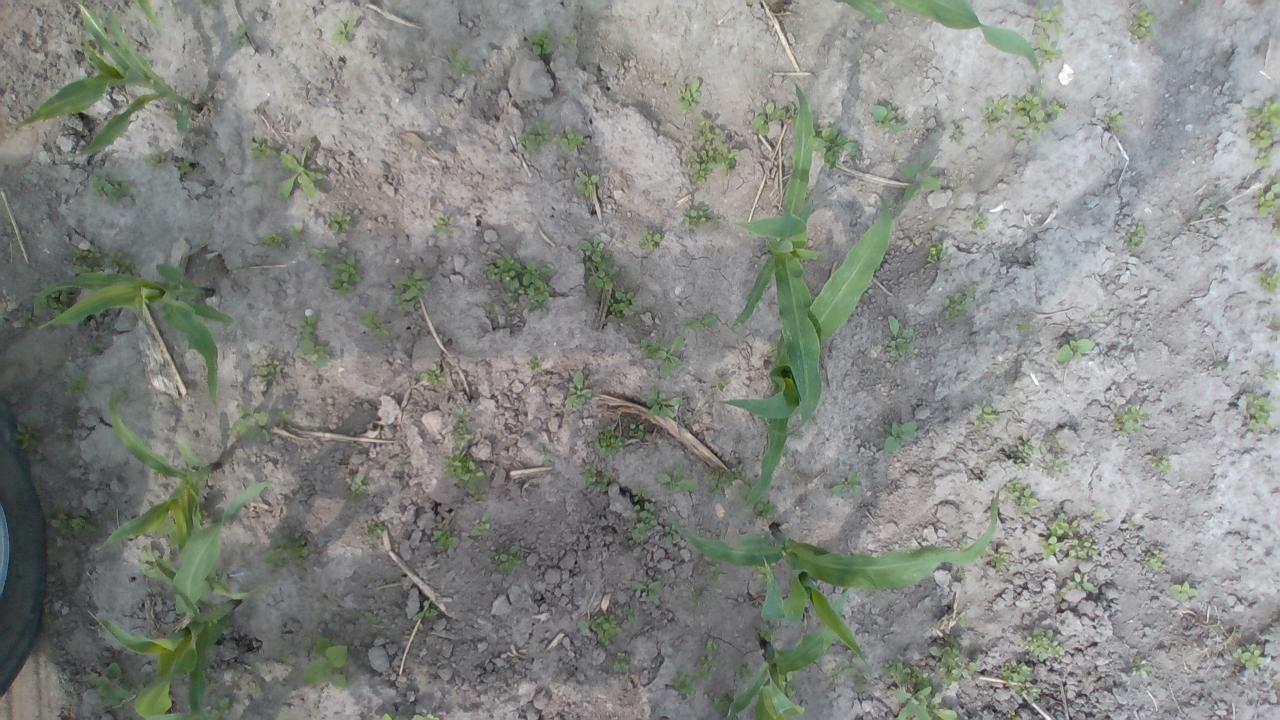Maize: (726, 188, 898, 524), (680, 490, 1002, 666), (96, 391, 280, 602), (738, 80, 826, 436), (12, 0, 202, 160), (35, 261, 236, 406), (88, 559, 240, 720), (770, 0, 1042, 89), (722, 588, 852, 720), (131, 0, 184, 30)
Weeds: (1038, 509, 1098, 561), (276, 139, 323, 199), (299, 636, 350, 688), (579, 232, 620, 290), (811, 122, 860, 170), (482, 252, 522, 308), (84, 660, 132, 706), (1032, 1, 1066, 64), (1008, 94, 1051, 143), (900, 156, 943, 204), (442, 450, 488, 493), (296, 313, 329, 367), (929, 636, 963, 686), (881, 312, 916, 360), (522, 260, 552, 316), (232, 403, 272, 444), (1003, 660, 1040, 704), (394, 270, 432, 311), (578, 613, 624, 646), (266, 531, 308, 566), (34, 280, 70, 320), (328, 254, 362, 296), (140, 544, 174, 586), (1242, 392, 1276, 434), (88, 166, 130, 199), (1024, 626, 1064, 660), (657, 461, 699, 493), (940, 284, 976, 321), (706, 463, 746, 496), (656, 336, 686, 379), (982, 92, 1011, 136), (1251, 172, 1280, 216), (1113, 406, 1150, 440), (444, 39, 476, 78), (1054, 334, 1095, 364), (1002, 479, 1038, 513), (588, 424, 626, 456), (686, 141, 714, 184), (898, 685, 932, 720), (882, 421, 918, 454), (646, 386, 682, 419), (1243, 99, 1280, 130), (868, 102, 906, 132), (1002, 439, 1040, 469), (564, 370, 593, 408), (752, 102, 784, 136), (70, 243, 105, 273), (630, 502, 656, 542), (1128, 3, 1156, 40), (518, 120, 550, 152), (250, 354, 284, 384), (1233, 643, 1269, 670), (829, 472, 866, 498), (492, 543, 522, 575), (13, 420, 42, 453), (605, 290, 639, 318), (360, 305, 390, 336), (671, 668, 700, 700), (153, 516, 180, 550), (105, 246, 136, 275), (712, 140, 738, 174), (692, 113, 722, 142), (526, 26, 554, 57), (883, 655, 911, 686), (450, 408, 472, 446), (630, 578, 664, 602), (70, 509, 98, 538), (681, 204, 709, 233), (330, 16, 358, 45), (554, 126, 585, 152), (924, 238, 948, 270), (677, 80, 701, 112), (933, 691, 959, 720), (64, 370, 90, 397), (574, 170, 600, 197), (432, 524, 460, 549), (203, 568, 228, 594), (971, 403, 997, 428), (1256, 269, 1280, 296), (710, 685, 734, 712), (250, 136, 277, 160), (1246, 128, 1274, 151), (1168, 578, 1197, 600), (1124, 221, 1146, 250), (1068, 572, 1096, 594), (308, 244, 336, 266), (50, 426, 74, 451), (638, 227, 662, 252), (329, 209, 352, 234), (420, 362, 442, 388), (696, 654, 718, 680), (411, 600, 439, 620), (349, 474, 367, 505), (1130, 655, 1154, 678), (364, 520, 388, 543), (209, 697, 233, 720), (1045, 456, 1069, 479), (258, 232, 284, 253), (51, 512, 72, 536), (470, 512, 491, 536), (612, 652, 636, 673), (143, 151, 167, 172), (684, 315, 717, 330), (1044, 98, 1066, 120), (1104, 108, 1126, 130), (911, 665, 932, 688), (780, 670, 796, 700), (756, 494, 776, 517), (748, 562, 769, 583), (1151, 454, 1172, 475), (1145, 549, 1165, 571), (578, 464, 598, 486), (430, 210, 448, 234), (596, 470, 614, 494), (988, 549, 1008, 570), (230, 27, 250, 48), (970, 211, 990, 231), (560, 28, 580, 48), (732, 660, 754, 678), (1254, 151, 1274, 170), (704, 564, 726, 581), (854, 672, 870, 695), (276, 407, 294, 427), (536, 444, 556, 462), (640, 337, 658, 357), (950, 122, 966, 144), (627, 420, 646, 438), (842, 654, 861, 672), (664, 522, 678, 546), (132, 677, 151, 694), (740, 478, 756, 498), (759, 624, 777, 640), (787, 102, 800, 124), (962, 661, 978, 678), (178, 160, 195, 176), (410, 711, 440, 720), (623, 605, 637, 624), (630, 487, 650, 500), (113, 387, 129, 403), (288, 223, 304, 239), (1263, 367, 1280, 382), (710, 378, 730, 390), (1015, 318, 1031, 332), (19, 310, 33, 326), (198, 506, 210, 524), (280, 648, 292, 666), (150, 468, 167, 480), (956, 611, 968, 627), (84, 343, 100, 355), (705, 638, 721, 650), (764, 342, 776, 358), (364, 610, 378, 623), (1056, 588, 1068, 603), (529, 354, 541, 369), (830, 668, 841, 684), (958, 538, 971, 550), (1090, 506, 1102, 519), (379, 709, 392, 720), (1213, 358, 1226, 369), (1126, 514, 1136, 528), (1006, 709, 1018, 720), (679, 419, 692, 428), (1271, 227, 1280, 238), (695, 595, 706, 604), (194, 0, 210, 5), (1186, 0, 1198, 6), (744, 0, 753, 5), (129, 0, 139, 4)
